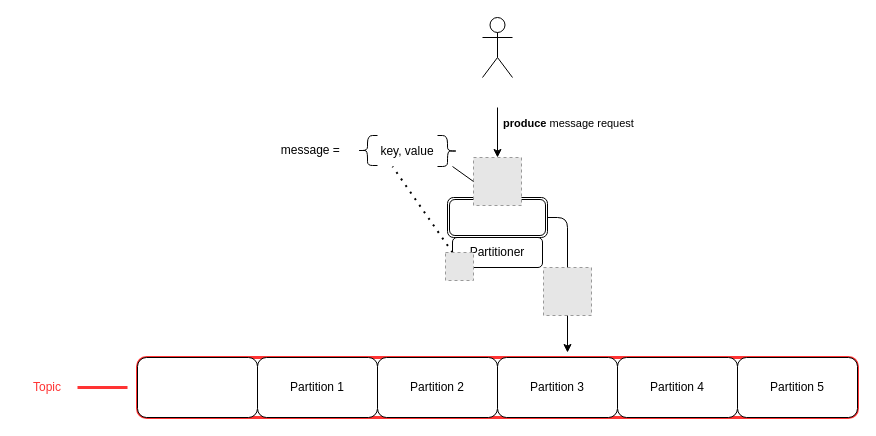
Some shapes in this 876 by 436 pixel diagram are drawn without their labels. Grey dashed boxes stand in for pictures. The box of each missing label's shape, as (x1, y1, x2, y2) in pixels:
kafka client: (446, 196, 548, 238)
Partition 0: (136, 356, 258, 418)
Producer: (482, 16, 512, 78)
